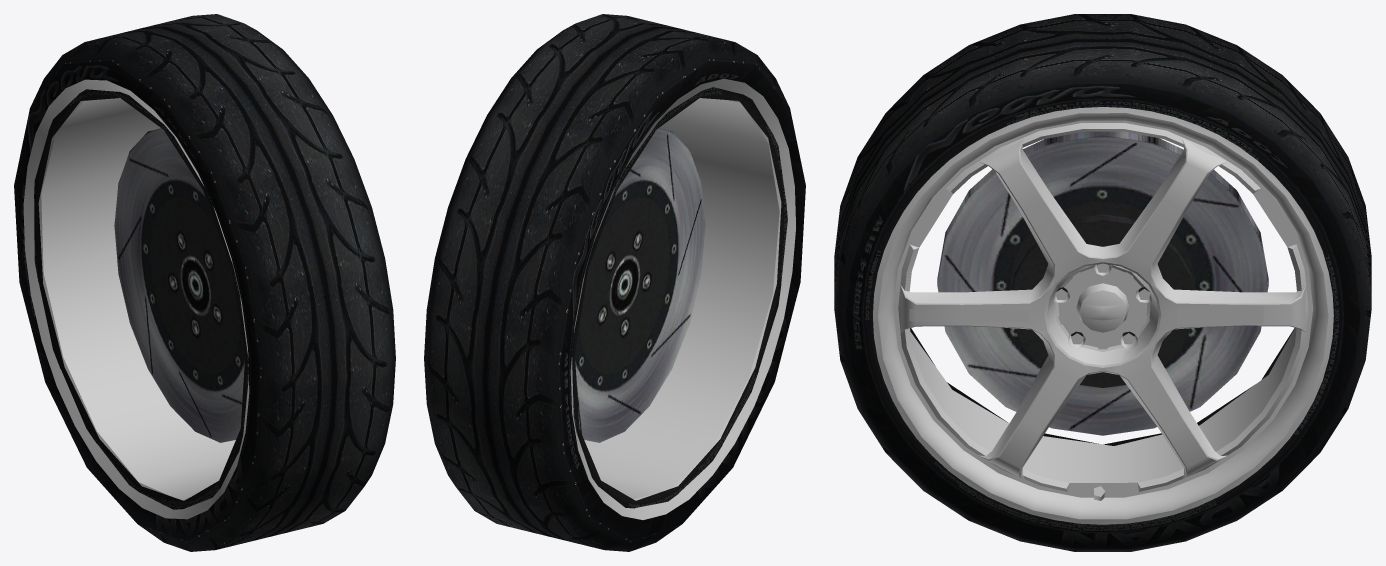
The model's file is wheel1.fbx.
3 renders of one model, left to right at view 1: azimuth 30°, elevation 25°; view 2: azimuth 150°, elevation 25°; view 3: azimuth 270°, elevation 25°, orthographic. The views are drawn at different scales.
Visible parts, largest first — view 1: wheel_LOD0; view 2: wheel_LOD0; view 3: wheel_LOD0.
Part boxes in pixels (left/top/right/bottom): wheel_LOD0: left=14, top=14, right=395, bottom=551; wheel_LOD0: left=424, top=14, right=805, bottom=551; wheel_LOD0: left=834, top=14, right=1371, bottom=551.
Size of the model in its own units: 30.25 by 101 by 101.
